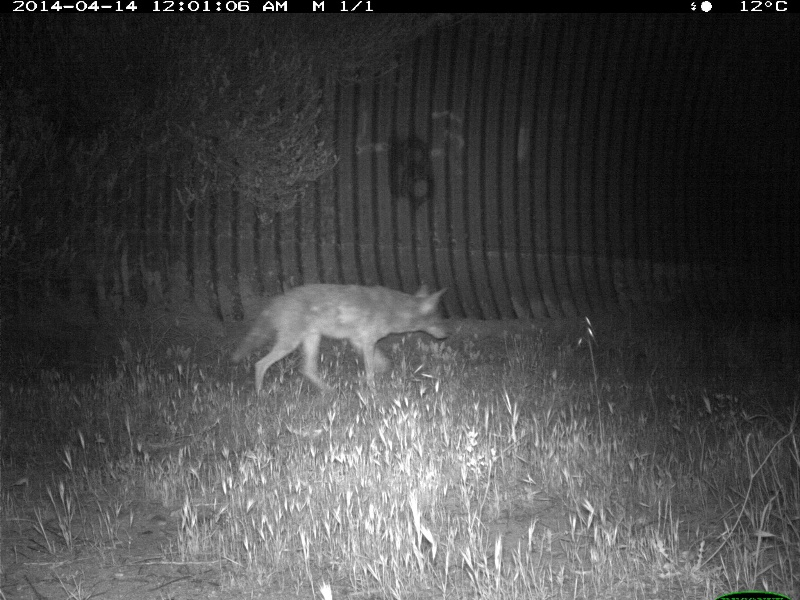coyote: (241, 280, 453, 397)
